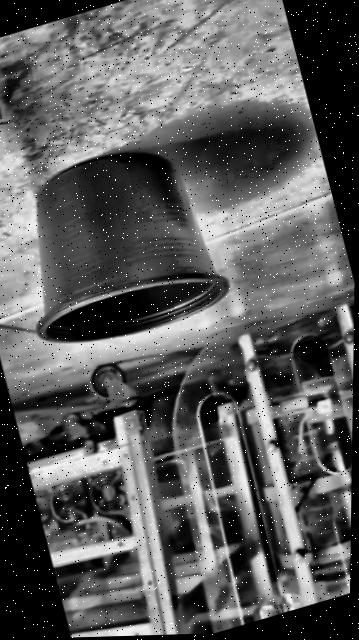pot: (0, 130, 235, 362)
